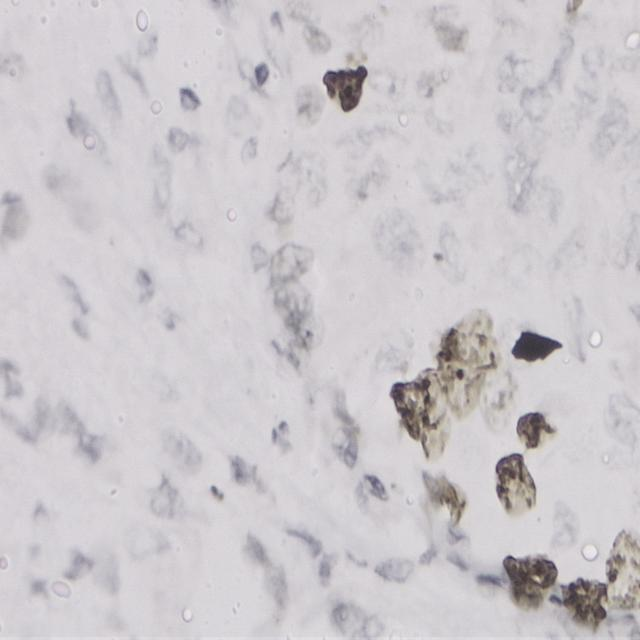Healthy cell: (586, 76, 640, 177), (373, 199, 426, 277), (523, 54, 567, 120), (349, 0, 390, 69), (504, 153, 536, 221), (146, 473, 187, 524), (604, 393, 634, 462), (157, 429, 201, 473), (0, 188, 32, 248), (416, 62, 453, 102), (293, 159, 328, 201), (552, 496, 576, 554), (294, 82, 322, 130), (164, 123, 192, 156), (582, 182, 584, 183)
cancer-cell-QiJm: (389, 364, 446, 466), (319, 384, 381, 468), (267, 282, 321, 364), (551, 574, 607, 640), (438, 309, 504, 365), (609, 536, 640, 633), (420, 466, 470, 525), (503, 553, 553, 612), (322, 63, 372, 117), (495, 452, 533, 521), (440, 355, 482, 416), (331, 596, 382, 640), (287, 5, 331, 56), (263, 245, 322, 281), (516, 330, 568, 368), (429, 10, 469, 55), (357, 473, 394, 517), (512, 410, 554, 447), (488, 366, 518, 413), (266, 183, 300, 223), (180, 83, 207, 117), (563, 0, 592, 28), (199, 482, 222, 513), (252, 57, 274, 86), (428, 248, 446, 268)
